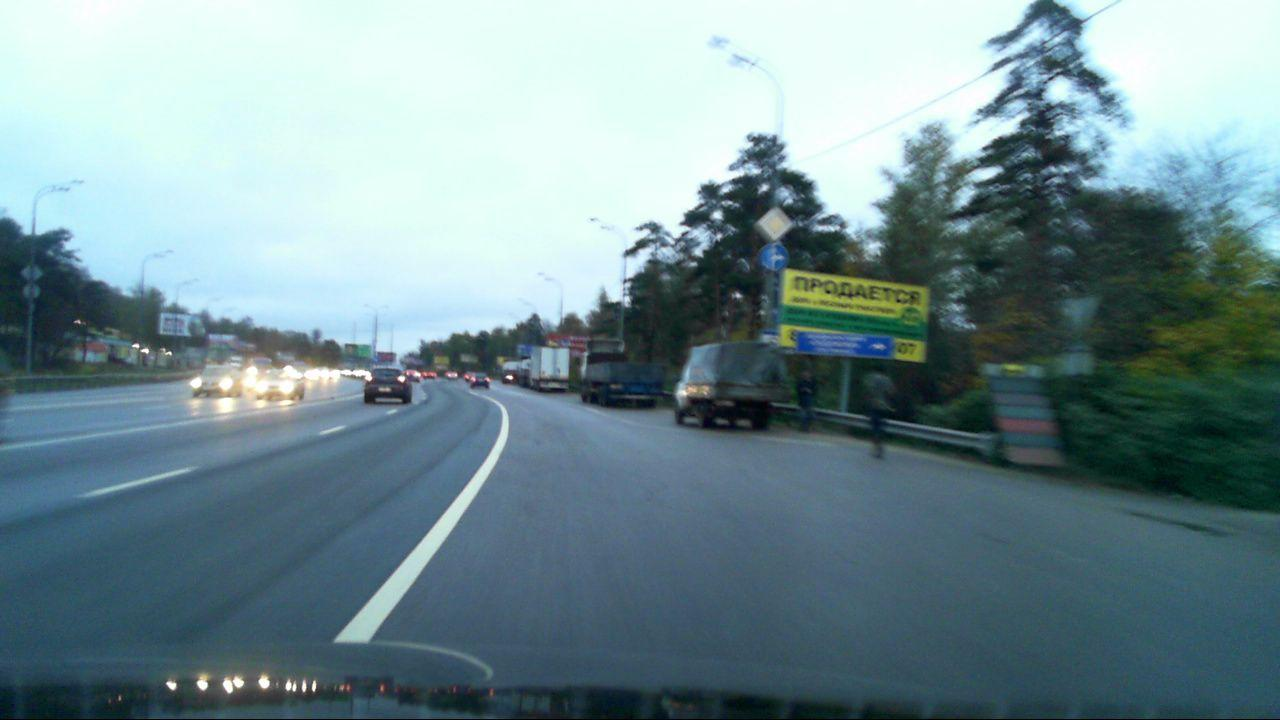2_1: (758, 205, 793, 239)
4_1_4: (760, 243, 788, 272)
6_10_1: (798, 327, 893, 358)
